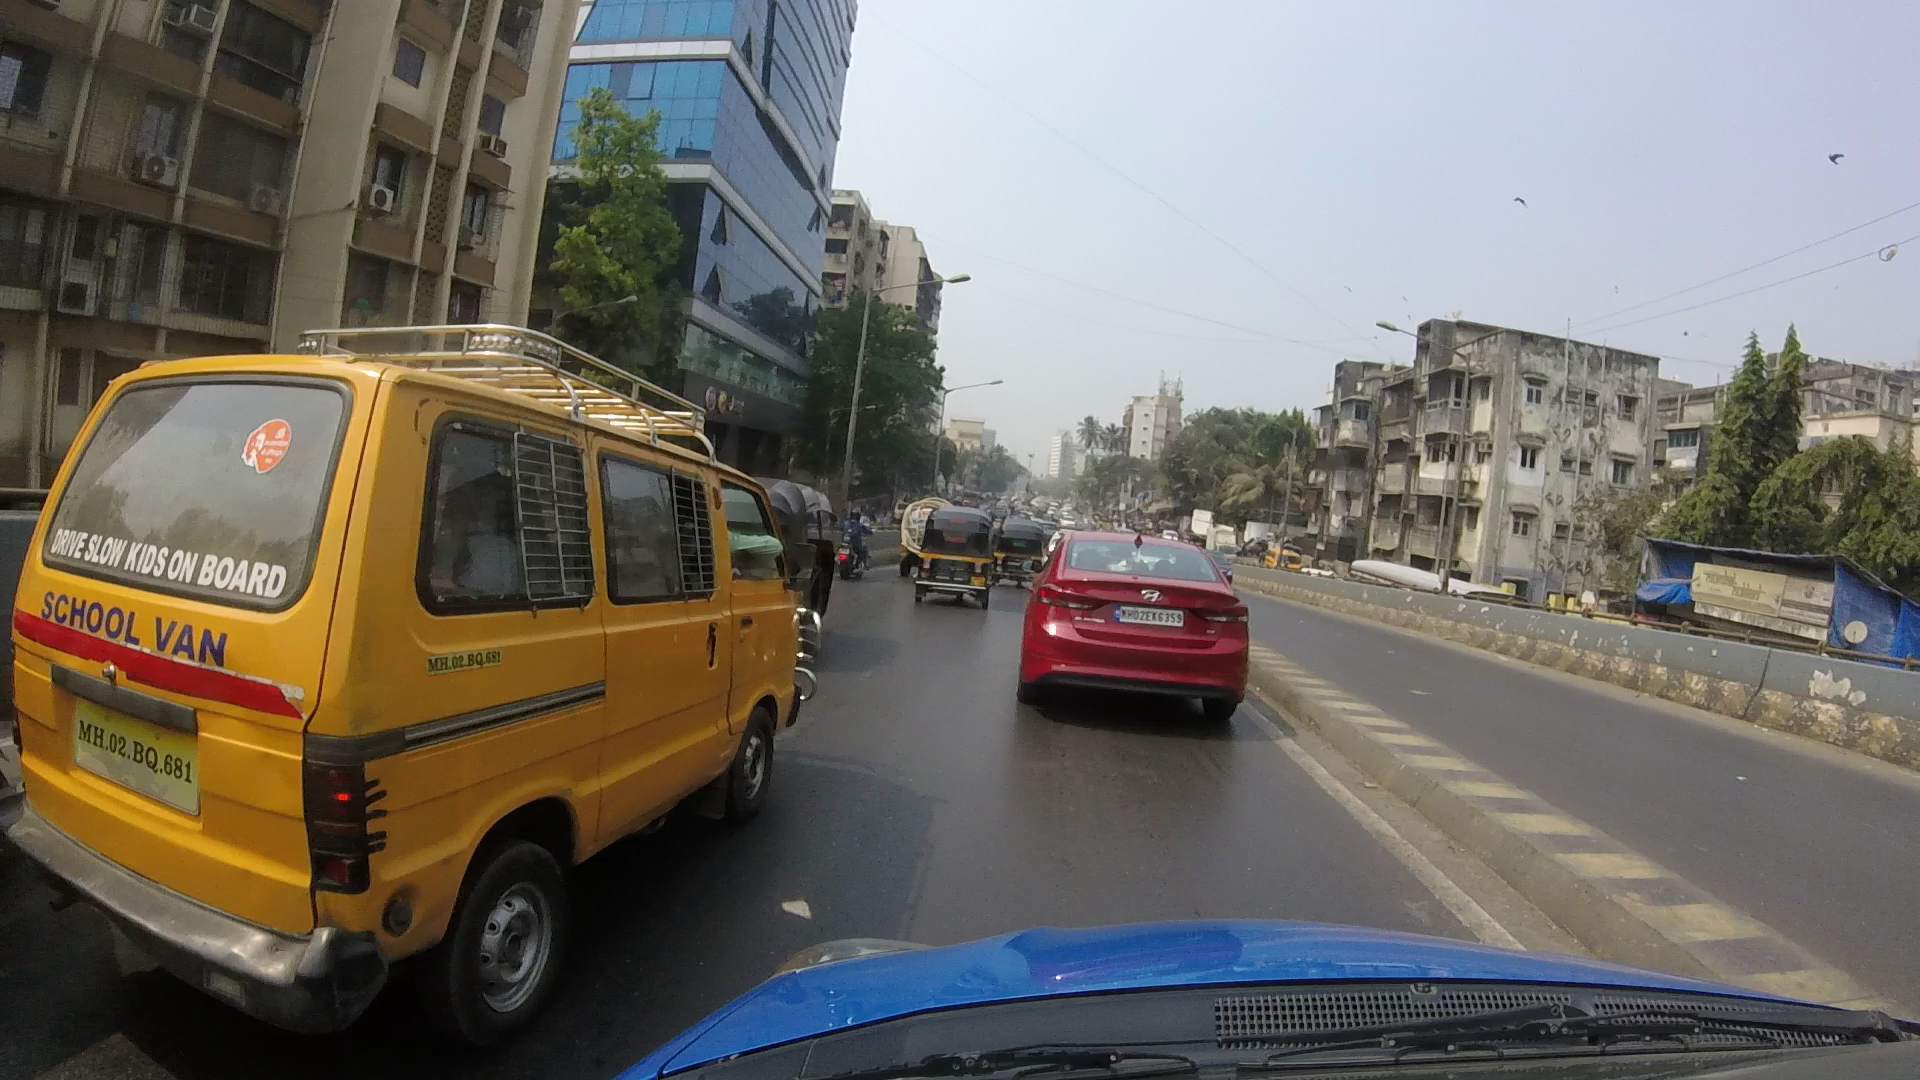car: (8, 334, 802, 1022), (1019, 530, 1269, 723)
rickshaw: (909, 510, 1000, 604)
